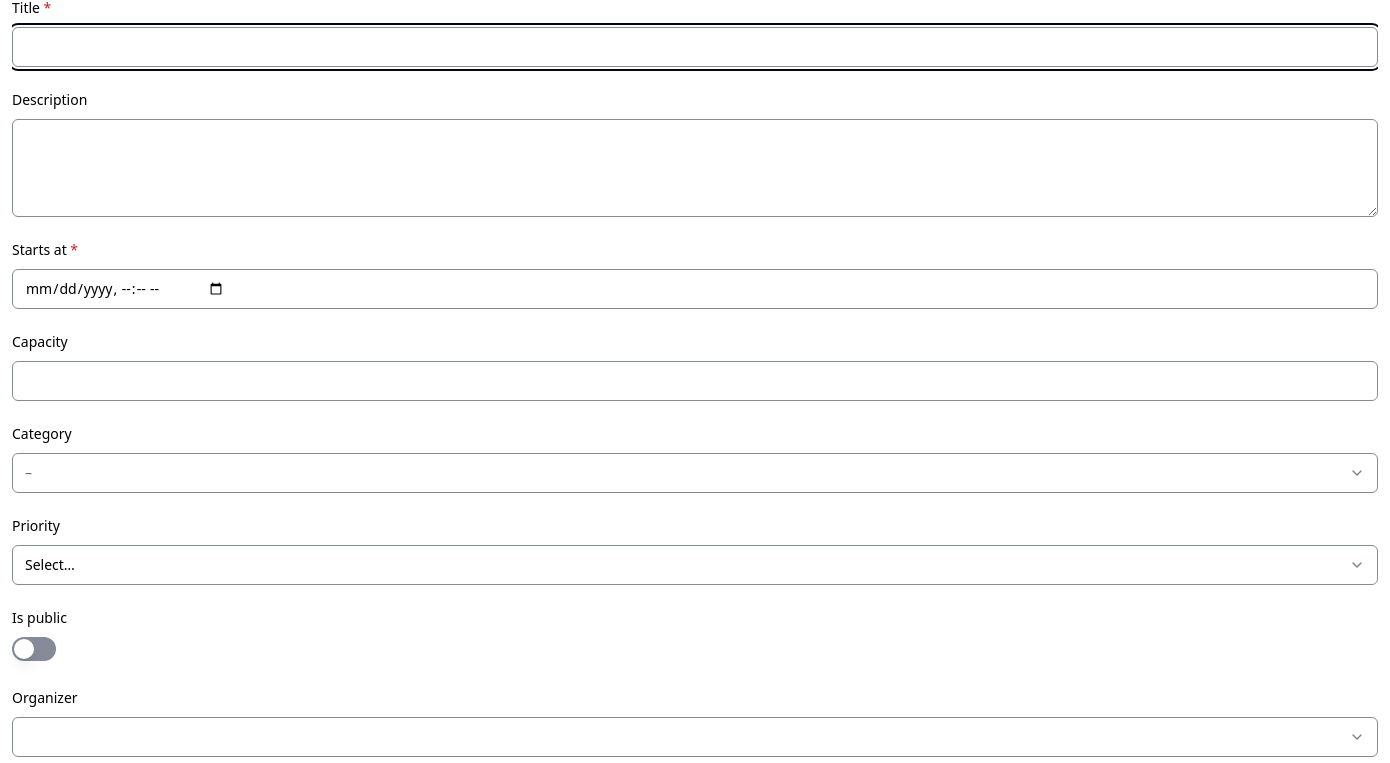
Test: ResourceForm submit: every DRF error shape lands on its field › field lists, plain strings, nested objects, unknown keys and non_field_errors
The width and height of the screenshot is (1390, 763).
Type "Spring gala" into the field labelled "Title".
click(695, 47); type("Spring gala")  # box x1=12 y1=27 x2=1378 y2=67
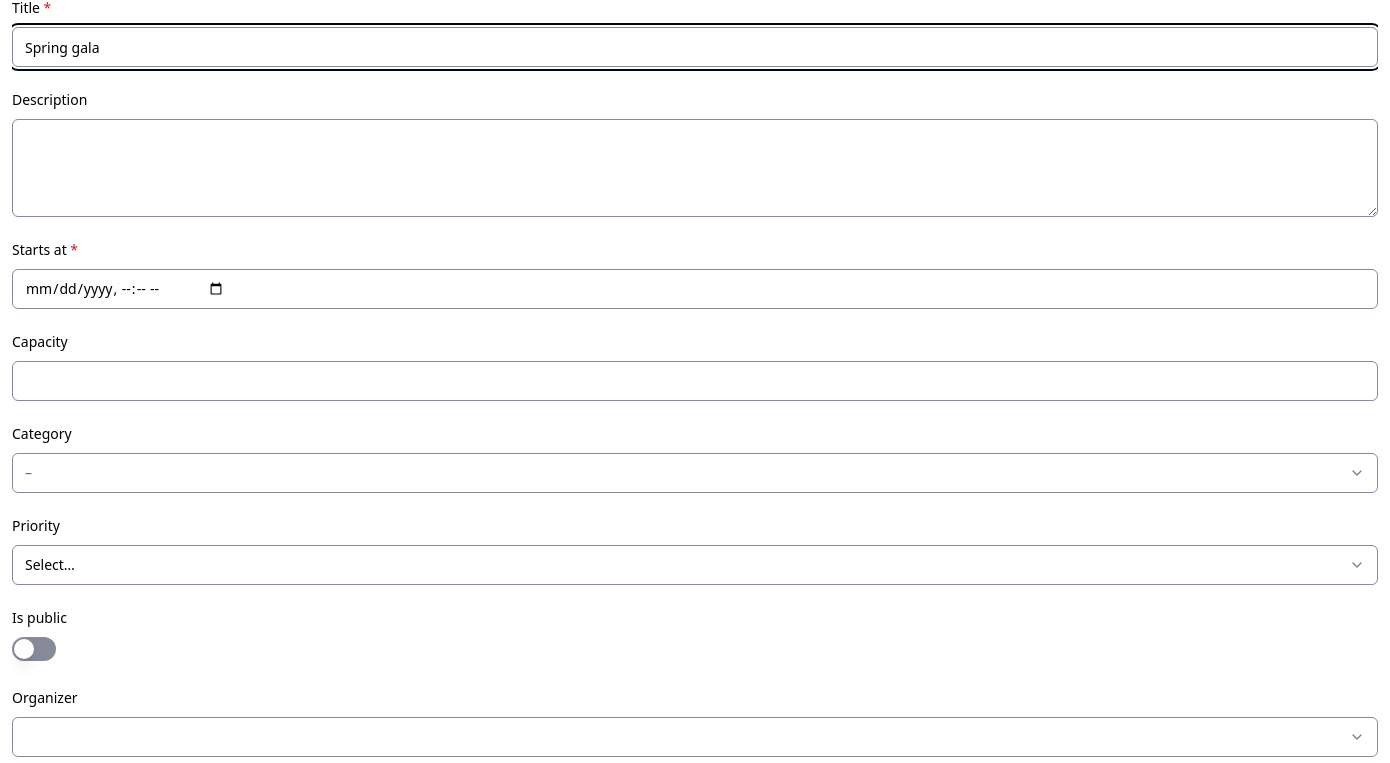
Type "2026-05-01T18:30" into the field labelled "Starts at *".
click(695, 289); type("2026-05-01T18:30")  # box x1=12 y1=269 x2=1378 y2=309
(page scrolled)
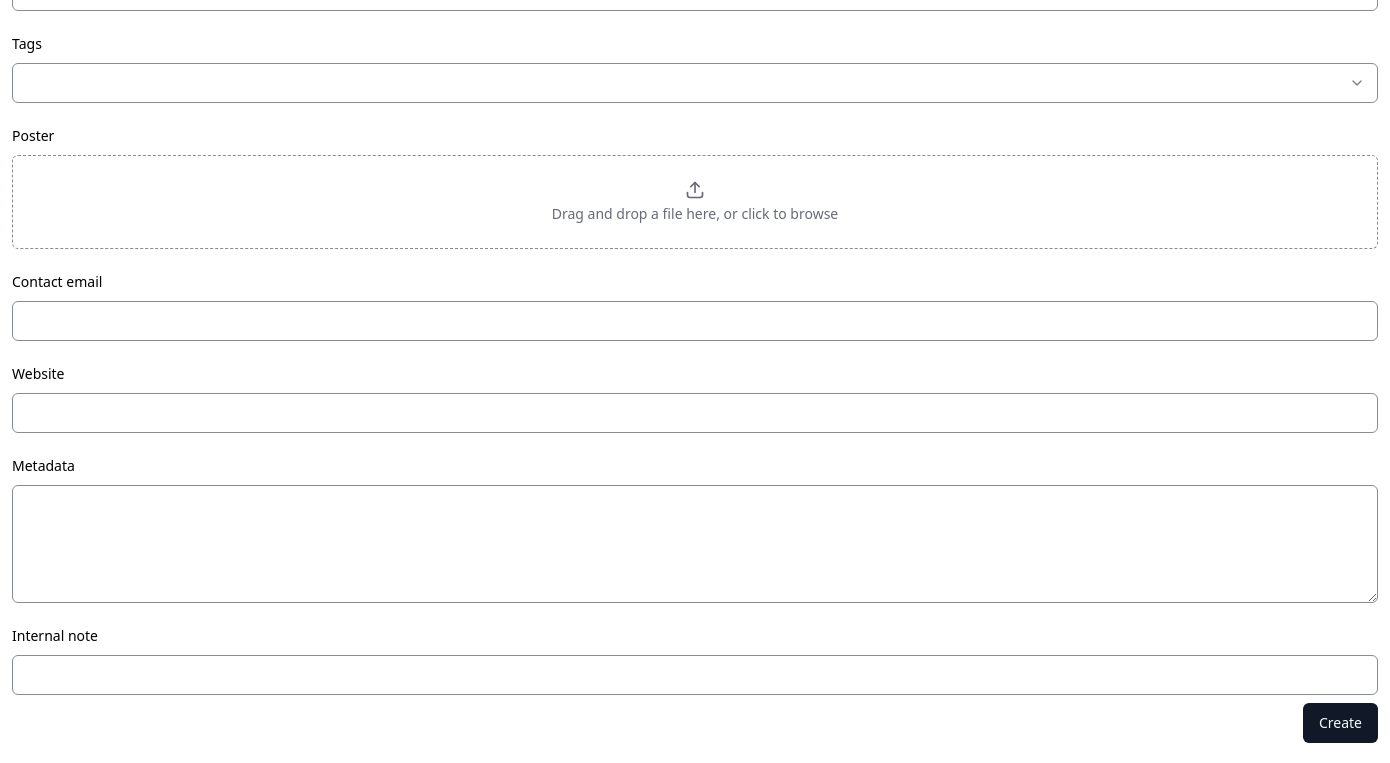
Click the button "Create".
click(1340, 723)  # box x1=1303 y1=703 x2=1378 y2=743
(page scrolled)
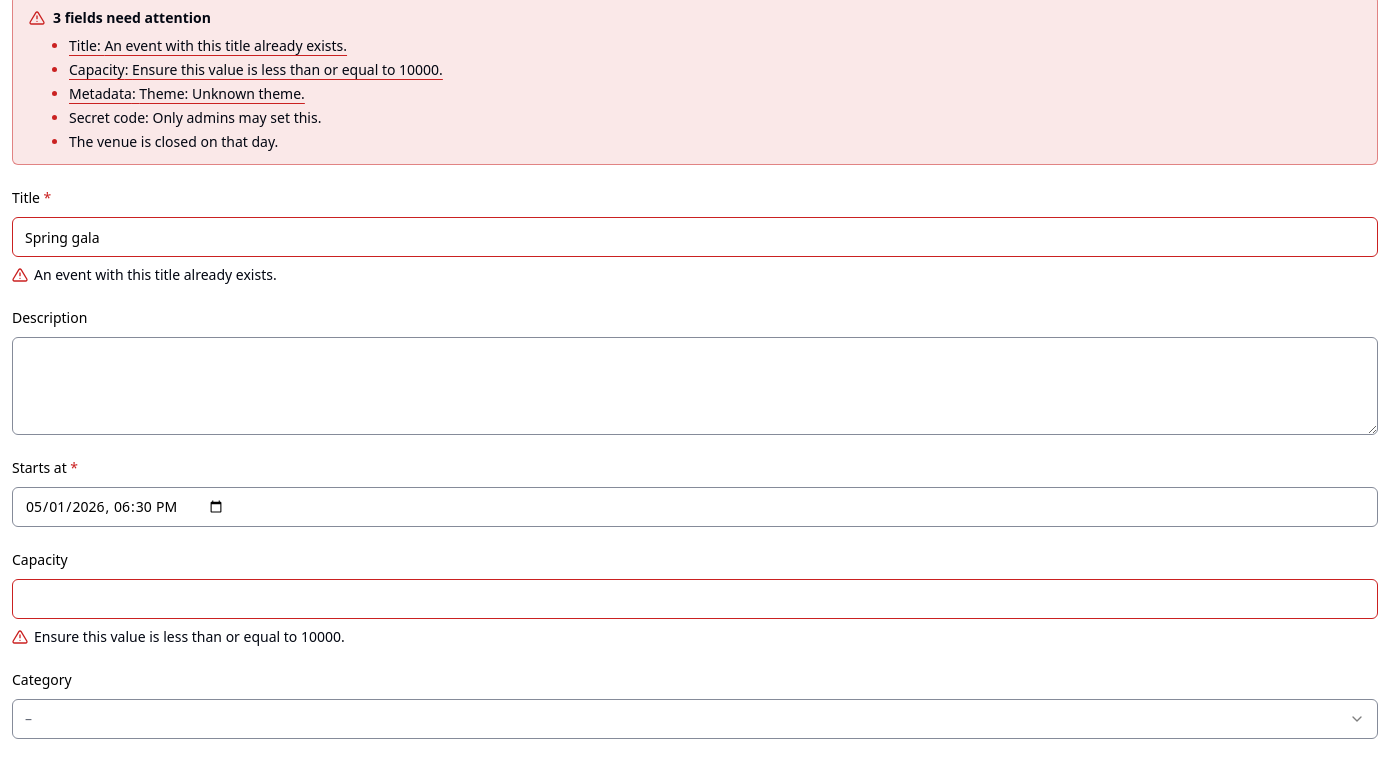
Now the message shows "3 fields need attention", box x1=53 y1=8 x2=211 y2=27
Now the list items read "Title: An event with this title already exists.", "Capacity: Ensure this value is less than or equal to 10000.", "Metadata: Theme: Unknown theme.", "Secret code: Only admins may set this.", "The venue is closed on that day.", in this order, box x1=69 y1=36 x2=347 y2=55; x1=69 y1=60 x2=443 y2=79; x1=69 y1=84 x2=305 y2=103; x1=69 y1=108 x2=321 y2=127; x1=69 y1=132 x2=278 y2=151
